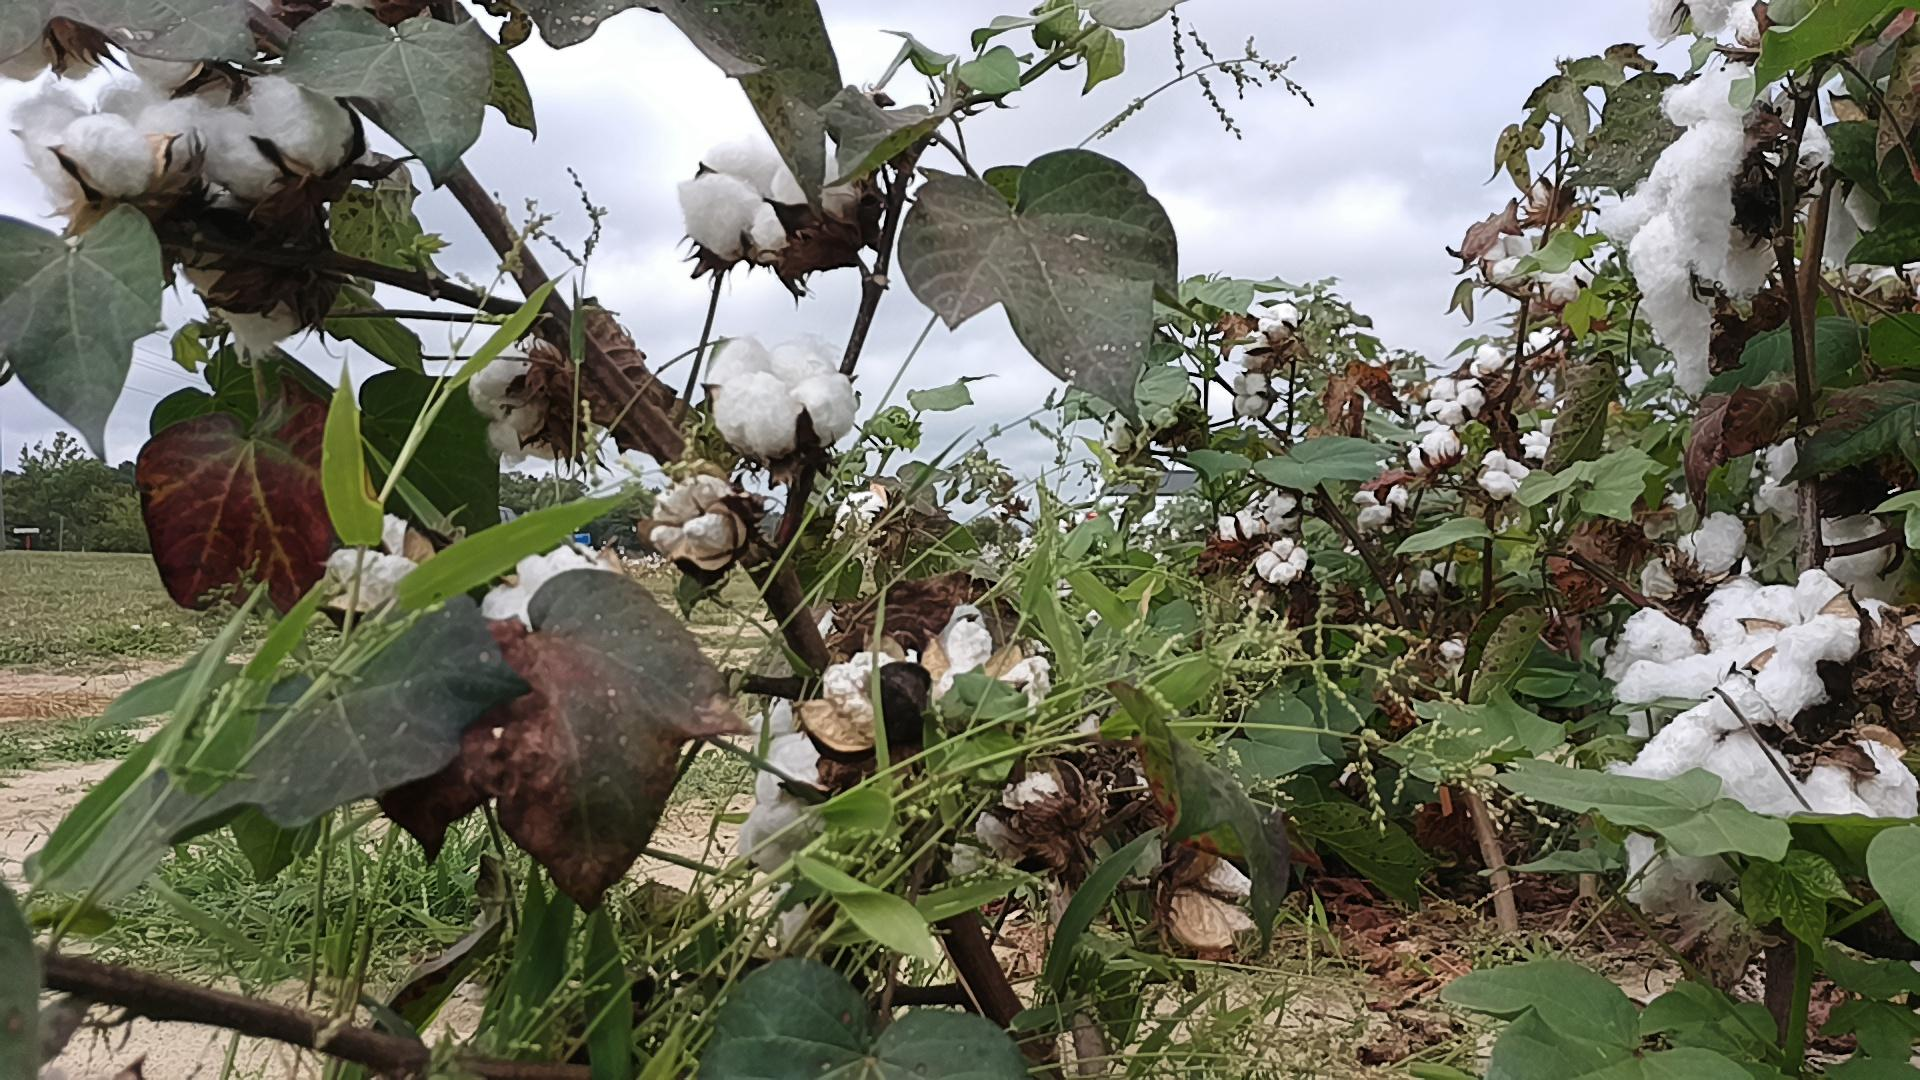cotton_ready: (1626, 66, 1749, 396), (1621, 680, 1784, 906), (1614, 575, 1846, 713), (16, 83, 198, 206), (1751, 600, 1920, 731), (680, 148, 848, 265), (196, 82, 357, 200), (1701, 736, 1920, 823), (1758, 443, 1886, 585), (705, 338, 858, 451), (1072, 711, 1166, 884), (938, 603, 1050, 729), (737, 731, 833, 866), (1638, 510, 1753, 607), (477, 546, 608, 629), (472, 342, 555, 465), (799, 647, 890, 750), (976, 766, 1083, 853), (647, 473, 748, 566), (1163, 856, 1258, 951), (328, 513, 415, 605), (1594, 608, 1702, 679), (1759, 117, 1833, 215), (1813, 173, 1875, 269), (1646, 0, 1738, 46)
